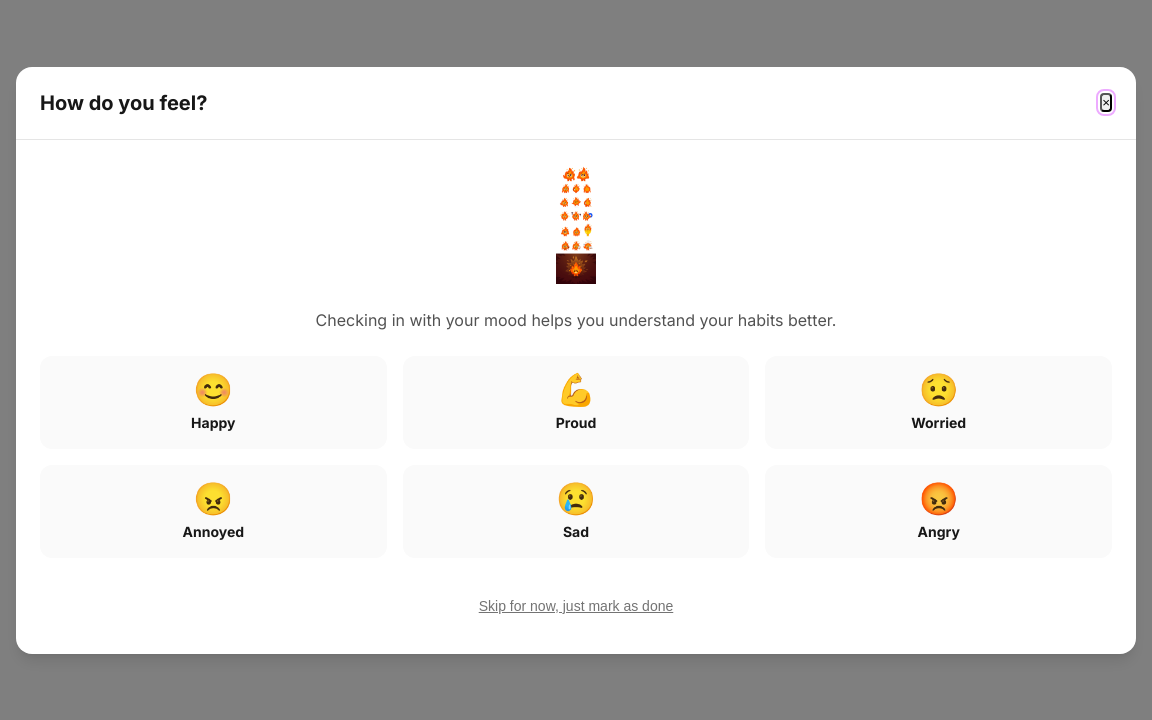
it: MoodCheckinModal › should enforce character limit on reflection
Click the text "Sad": point(576, 531) [563,522,589,540]
Wait 400 ms
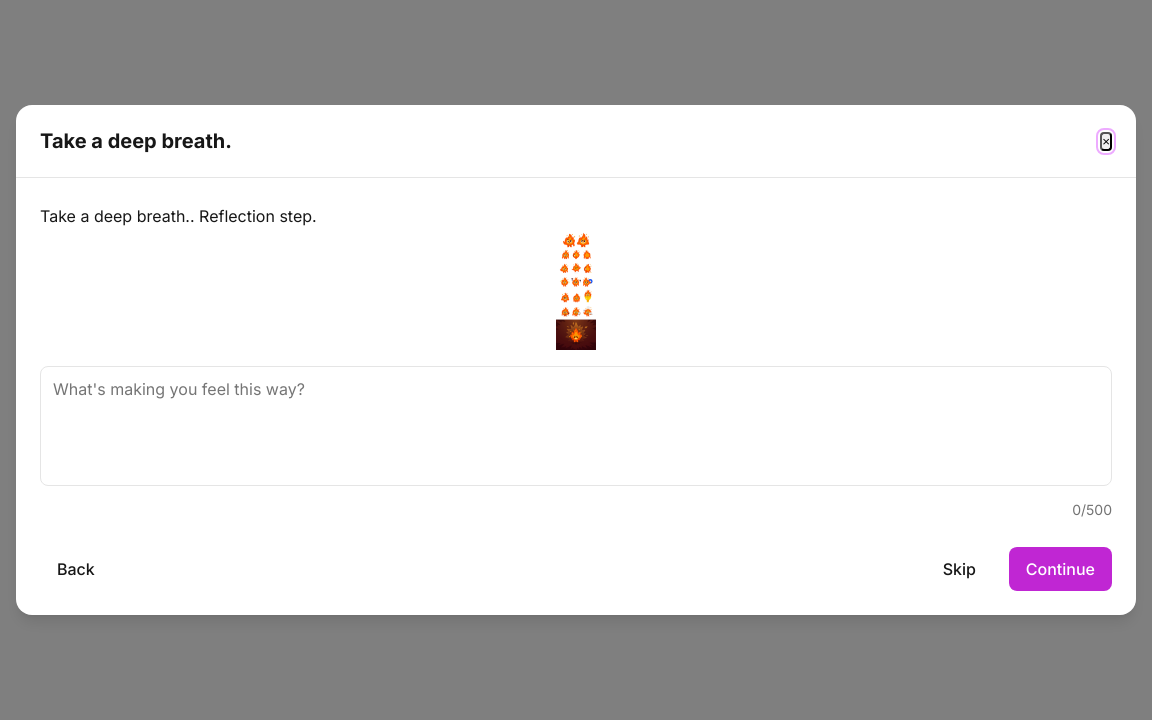
Expected: the text "0/500" is shown, [1072,501,1112,518]
In the text box with placeholder "What's making you feel this way?": point(576, 426) [40,366,1112,486], type "abc"
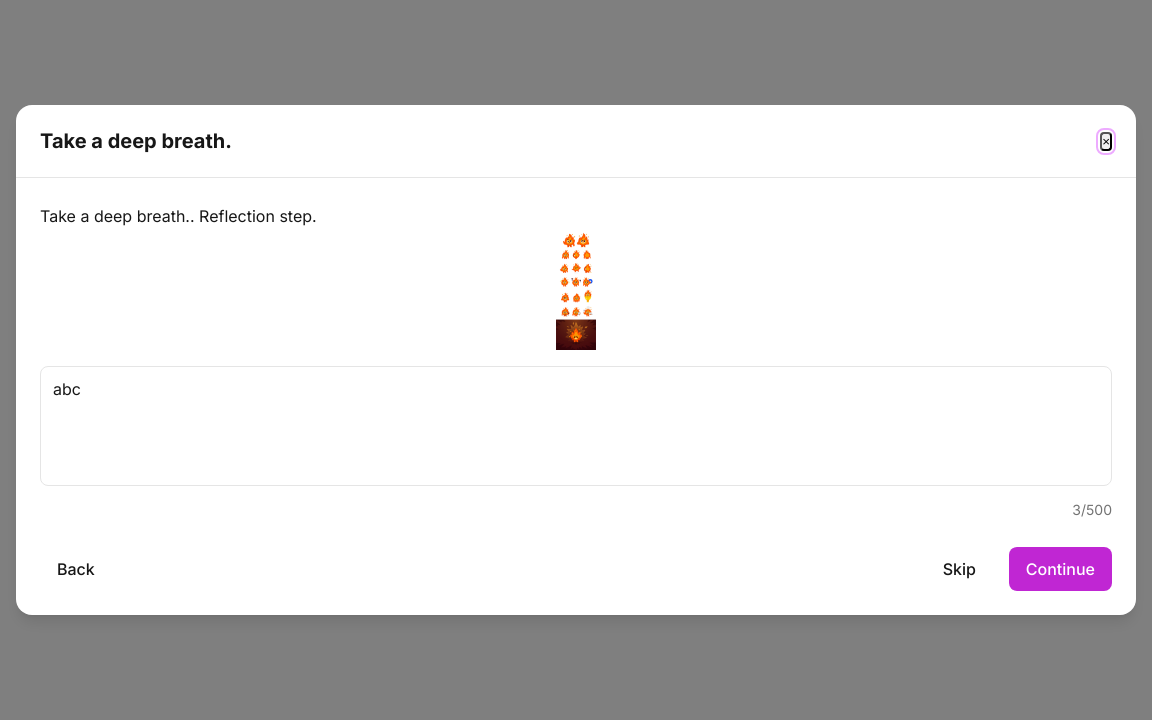
Expected: the text "3/500" is shown, [1072,501,1112,518]
